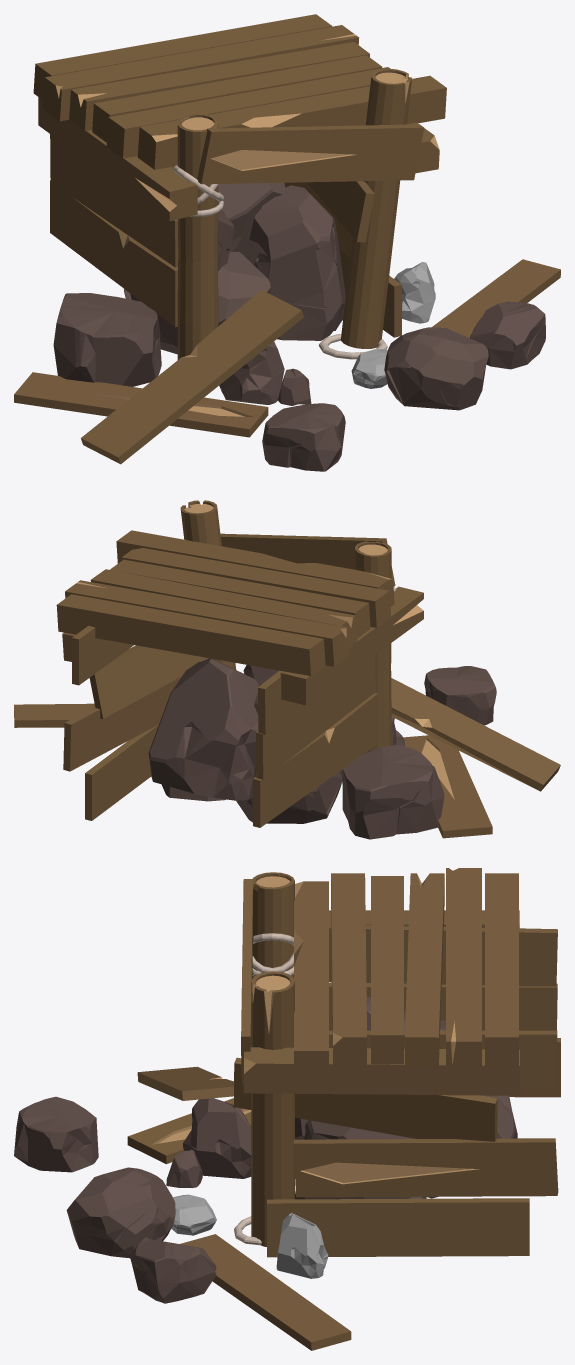
The model's file is Mine entrance blocked.fbx.
3 views of the same model, one above another, from view 1: azimuth 30°, elevation 25°; view 2: azimuth 150°, elevation 25°; view 3: azimuth 270°, elevation 25° (orthographic). The views are drawn at different scales.
Parts seen in each view (by area): view 1: Mine entrance blocked; view 2: Mine entrance blocked; view 3: Mine entrance blocked.
Part boxes in pixels (left/top/right/bottom): Mine entrance blocked: left=14, top=14, right=560, bottom=471; Mine entrance blocked: left=14, top=500, right=560, bottom=839; Mine entrance blocked: left=14, top=868, right=560, bottom=1350.
Bounding box in the file's own units: 448 × 208 × 374.
